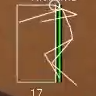hacks_1: (15, 1, 79, 95)
